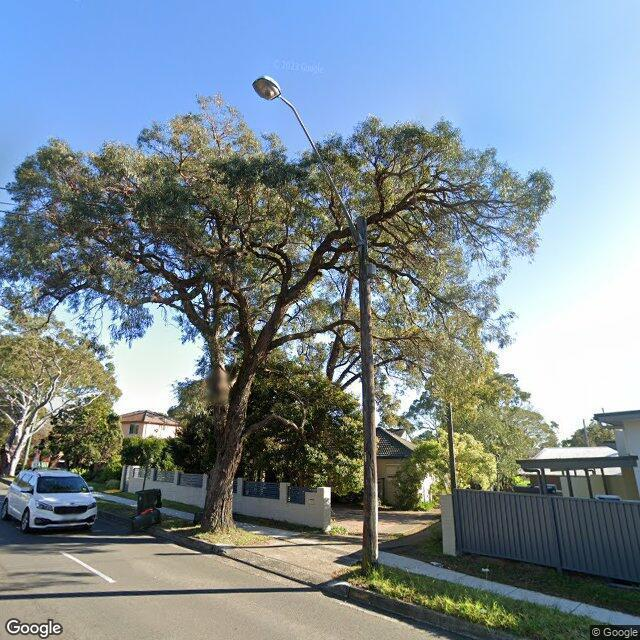streetlight: (252, 76, 363, 247)
timber-pole: (356, 218, 379, 576), (446, 402, 456, 492)
